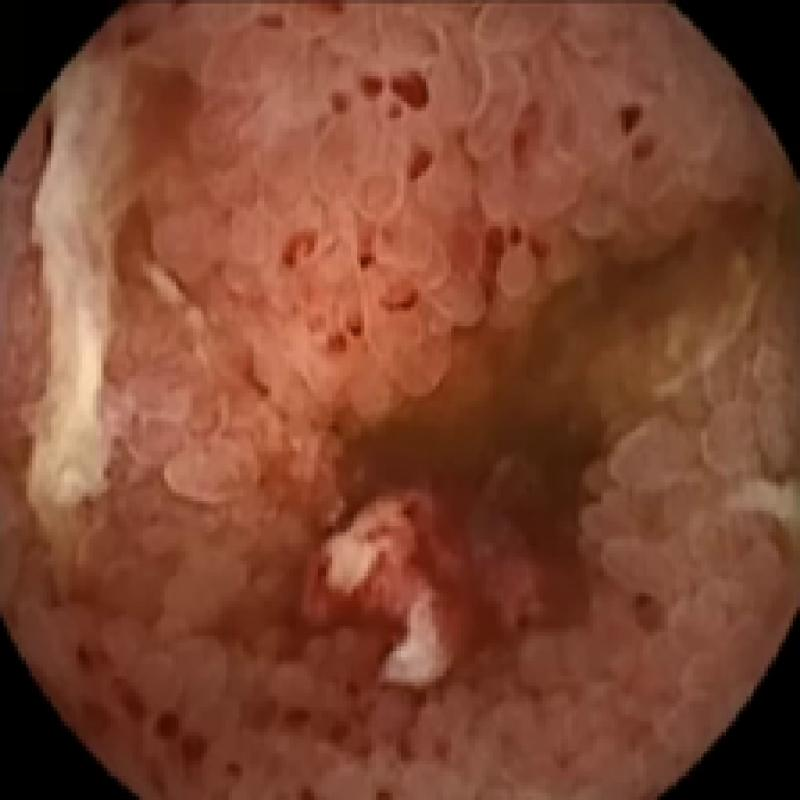bleeding: (57, 46, 639, 800)
